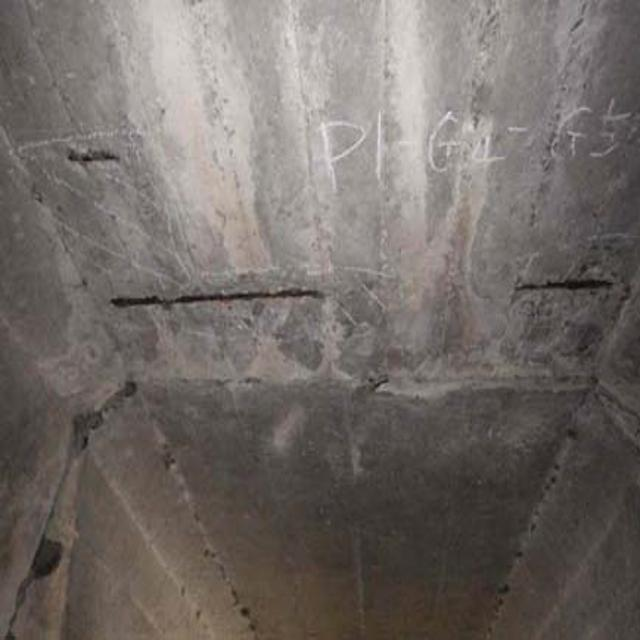spalling: (96, 266, 327, 324), (492, 246, 614, 333), (55, 139, 152, 187)
